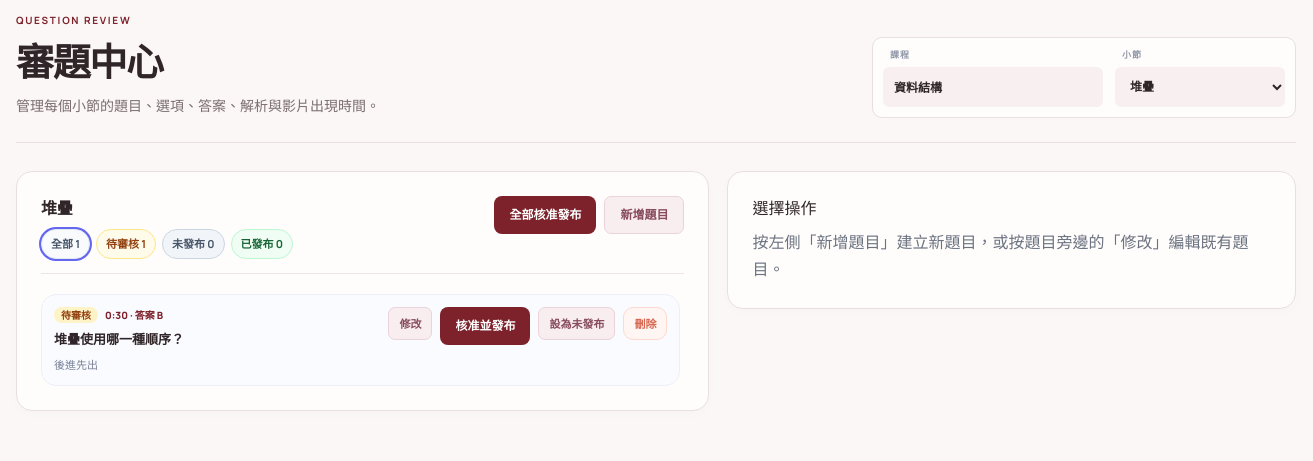
Scenario: shows pending AI questions and publishes the latest batch
The width and height of the screenshot is (1313, 461).
Expected: the text "待審核" is shown, [54,307,98,323]
Click the button "全部核准發布" at (545, 215), box [494,196,596,234]
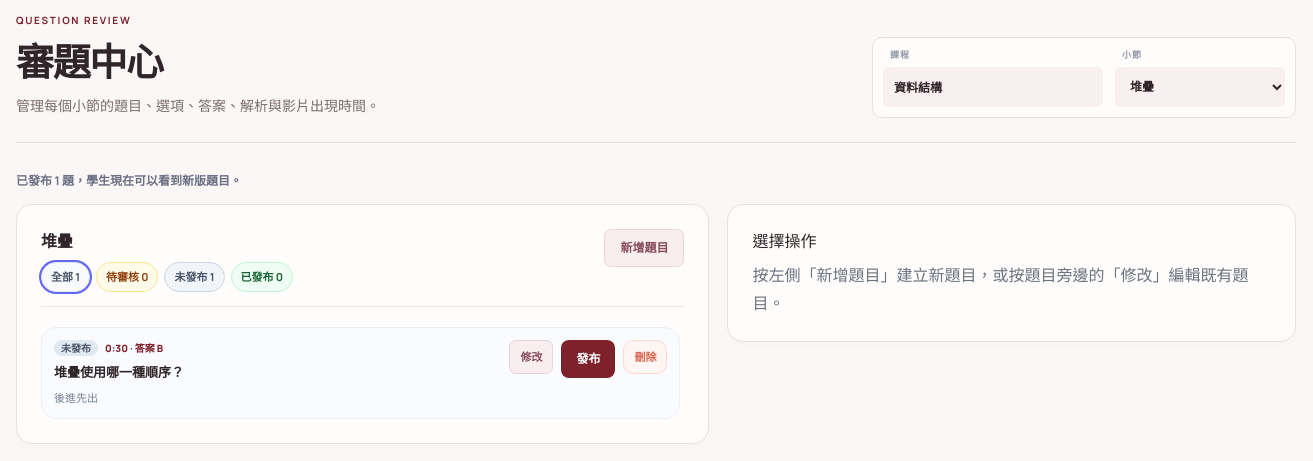
Expected: the text "已發布 1 題，學生現在可以看到新版題目。" is shown, [16,172,242,189]
